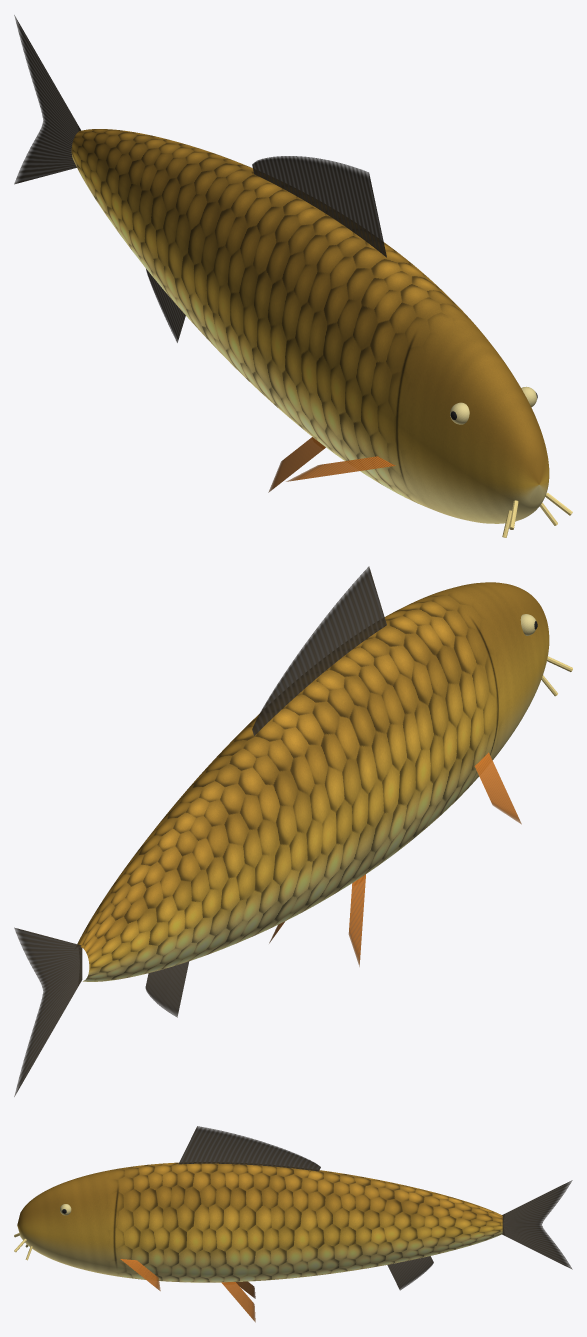
Rendered from sazan_trophy.glb.
The picture shows the model from 3 angles, top to bottom: view 1: azimuth 30°, elevation 25°; view 2: azimuth 150°, elevation 25°; view 3: azimuth 270°, elevation 25°; orthographic projection. The views are drawn at different scales.
Parts seen in each view (by area): view 1: body, fin_dorsal0, fin_tail, fin_pect_R, fin_pelv_R, fin_anal0; view 2: body, fin_dorsal0, fin_tail, fin_anal0, fin_pect_R, fin_pelv_R; view 3: body, fin_dorsal0, fin_tail, fin_anal0, fin_pelv_L, fin_pect_L.
Part boxes in pixels (bbox=[...]): body: bbox=[71, 129, 549, 523]; fin_dorsal0: bbox=[252, 156, 386, 257]; fin_tail: bbox=[14, 15, 80, 184]; fin_pect_R: bbox=[286, 456, 395, 481]; fin_pelv_R: bbox=[268, 437, 325, 492]; fin_anal0: bbox=[146, 269, 185, 342]; body: bbox=[77, 582, 549, 981]; fin_dorsal0: bbox=[252, 566, 386, 735]; fin_tail: bbox=[14, 927, 82, 1096]; fin_anal0: bbox=[145, 961, 189, 1017]; fin_pect_R: bbox=[474, 752, 521, 824]; fin_pelv_R: bbox=[348, 874, 365, 966]; body: bbox=[17, 1162, 502, 1282]; fin_dorsal0: bbox=[178, 1126, 320, 1171]; fin_tail: bbox=[502, 1180, 572, 1269]; fin_anal0: bbox=[387, 1256, 433, 1290]; fin_pelv_L: bbox=[221, 1282, 255, 1322]; fin_pect_L: bbox=[120, 1259, 160, 1290].
Bounding box in the file's own units: 0.2069 × 0.2923 × 0.8.
Materials: 6 (3 with a texture image).
